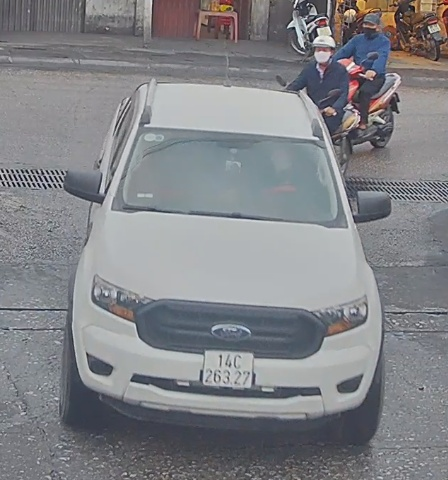vehicle plate: (196, 344, 260, 394)
